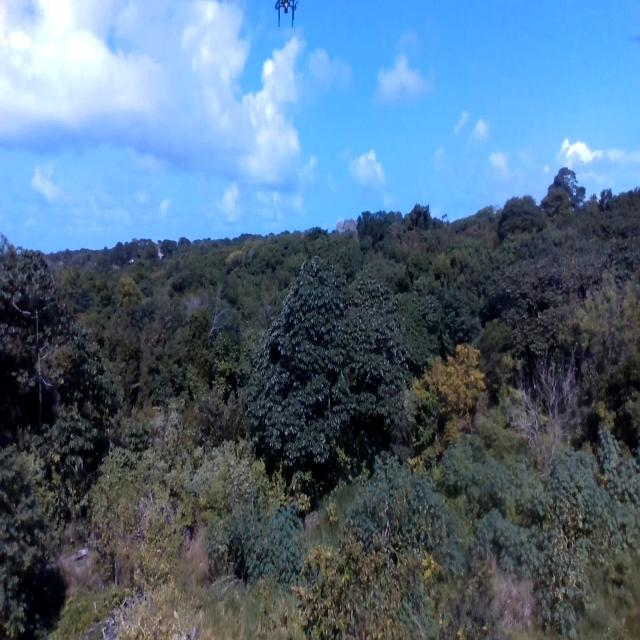-uav-: (272, 0, 300, 33)
